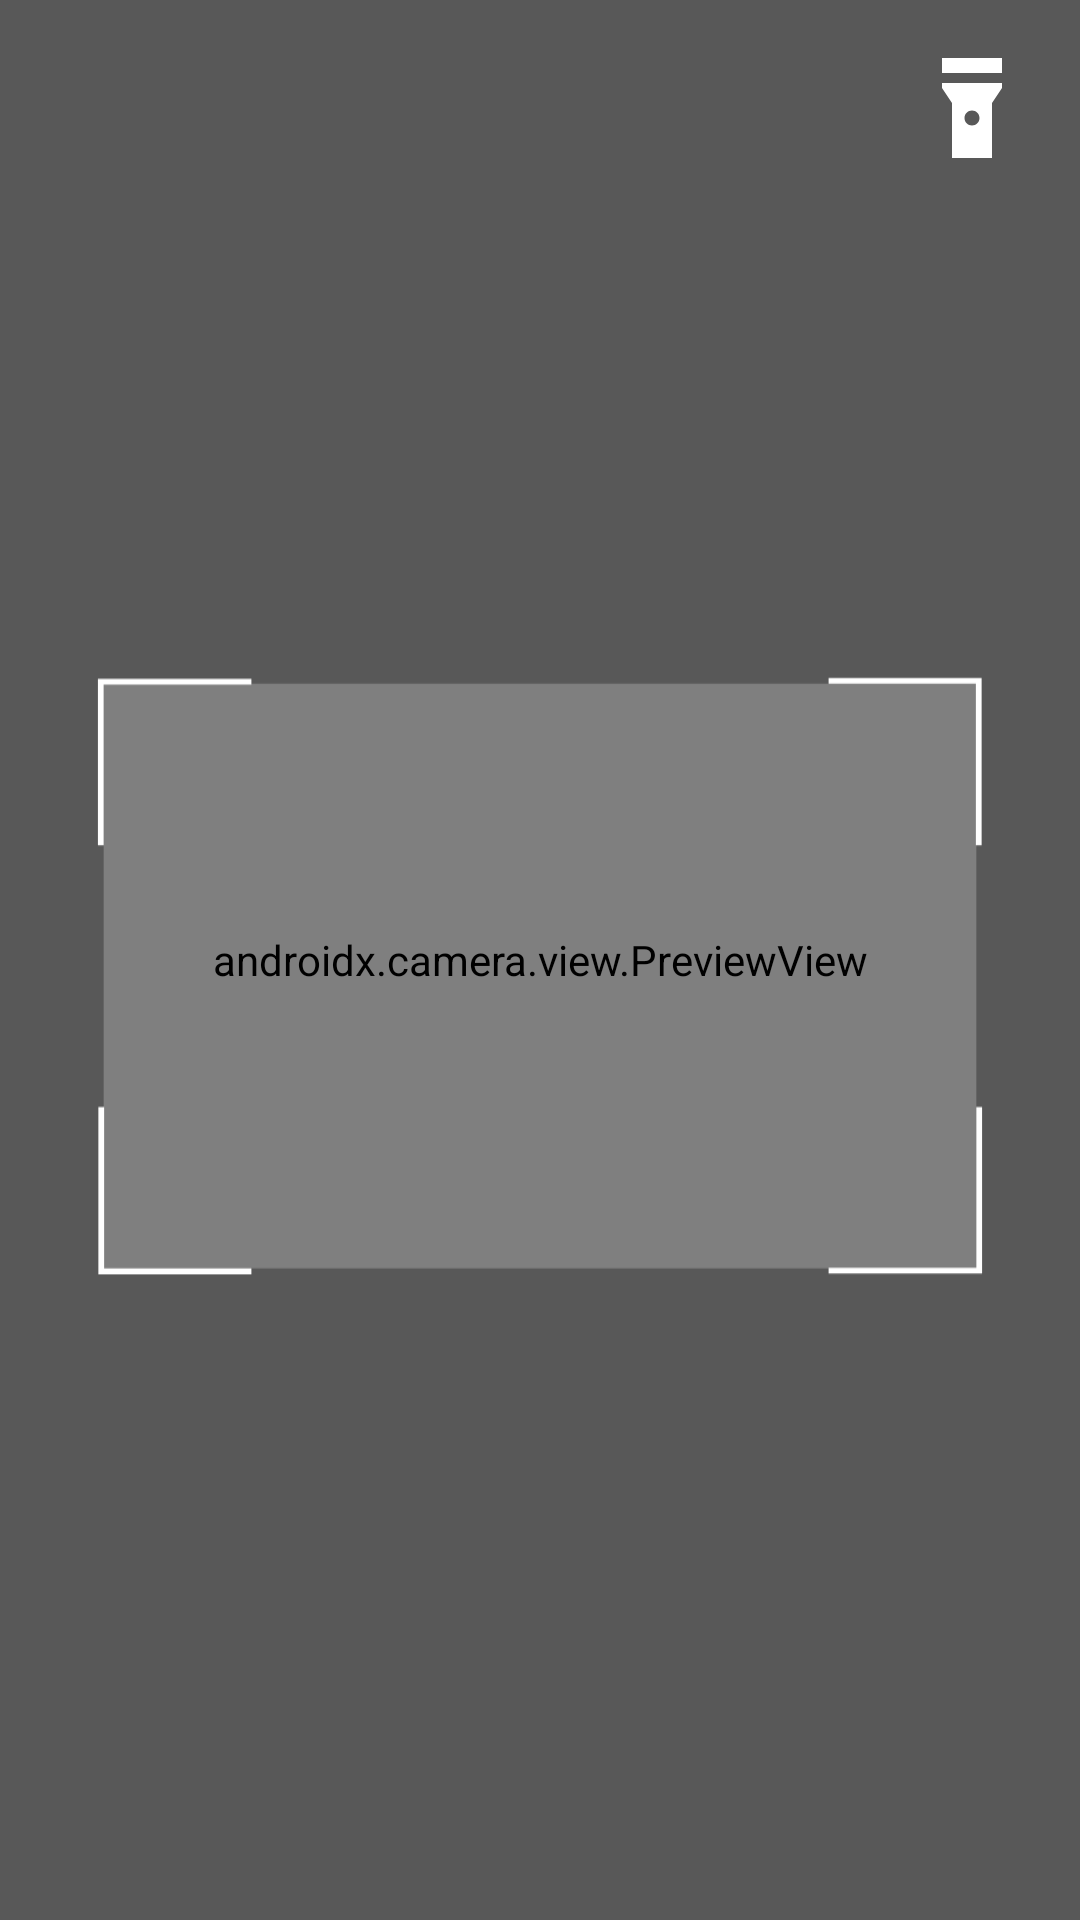

Named icons in this screenshot (1080×1920) and their bounding boxes, [left=x1, top=y1, right=x2, bottom=y2]:
flashlight on: [left=942, top=58, right=1002, bottom=158]
